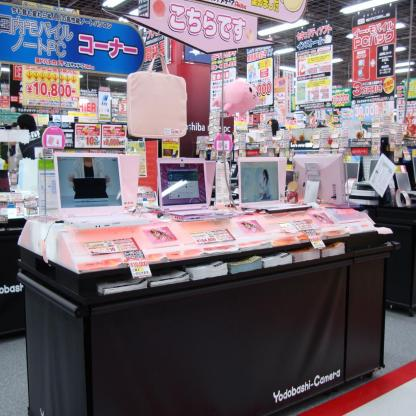board: (52, 150, 148, 230), (158, 158, 232, 220), (238, 158, 310, 213), (74, 177, 108, 202), (356, 160, 378, 186), (206, 160, 216, 206)
